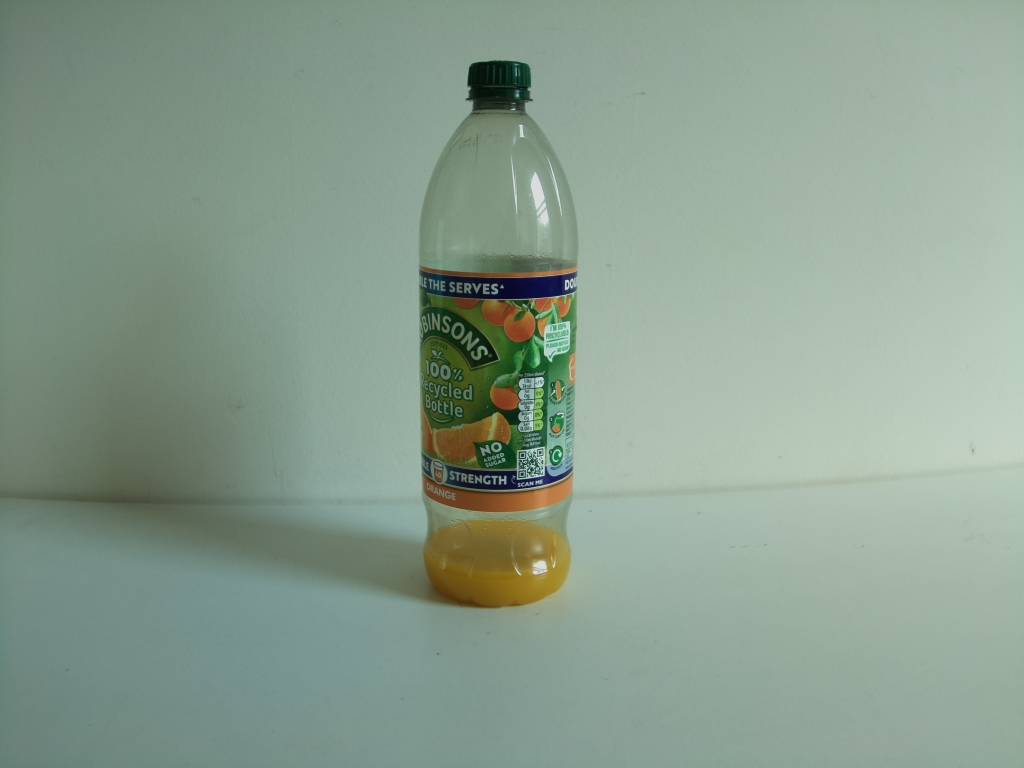juice: (415, 54, 582, 612)
